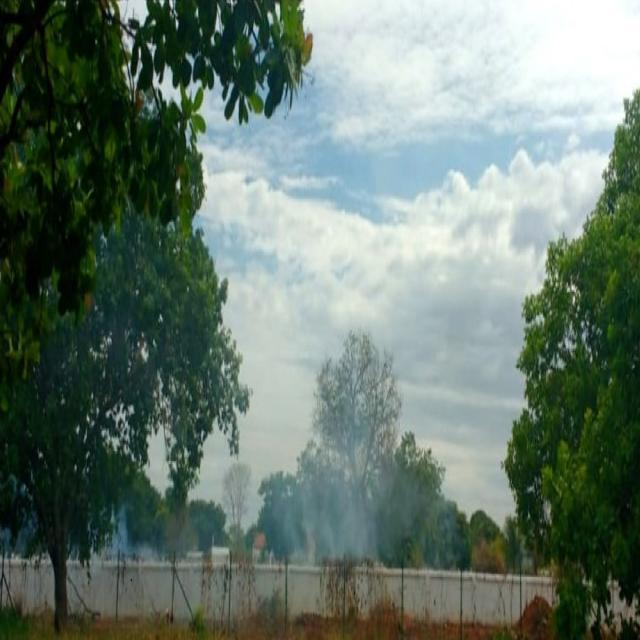Smoke: (288, 466, 393, 566), (405, 462, 477, 560), (112, 512, 165, 562)
